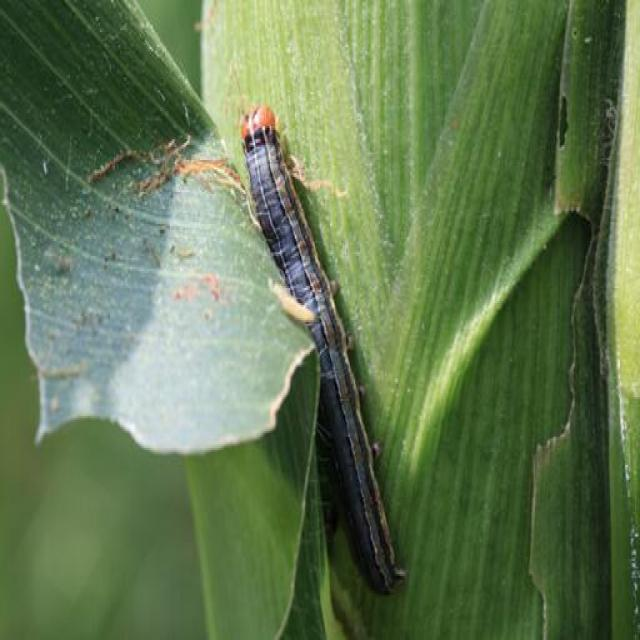armyworm: (223, 85, 431, 615)
